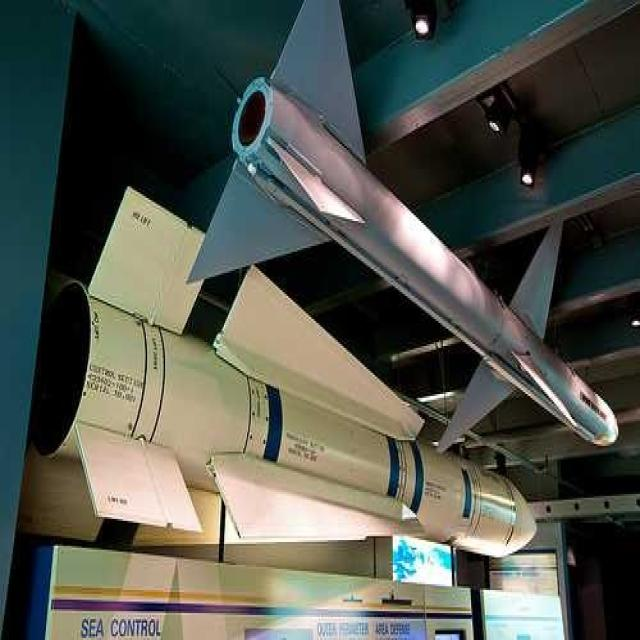missile: (29, 188, 535, 579), (186, 0, 620, 453)
